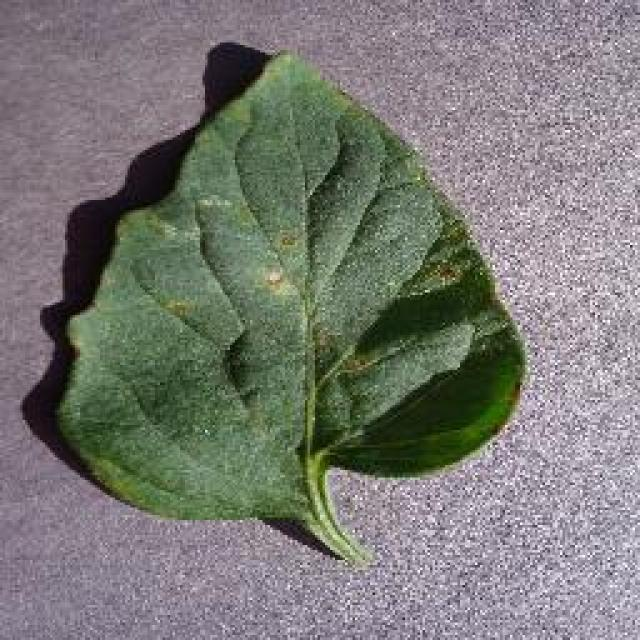Tomato Septoria spot leaf: (60, 48, 522, 512)
